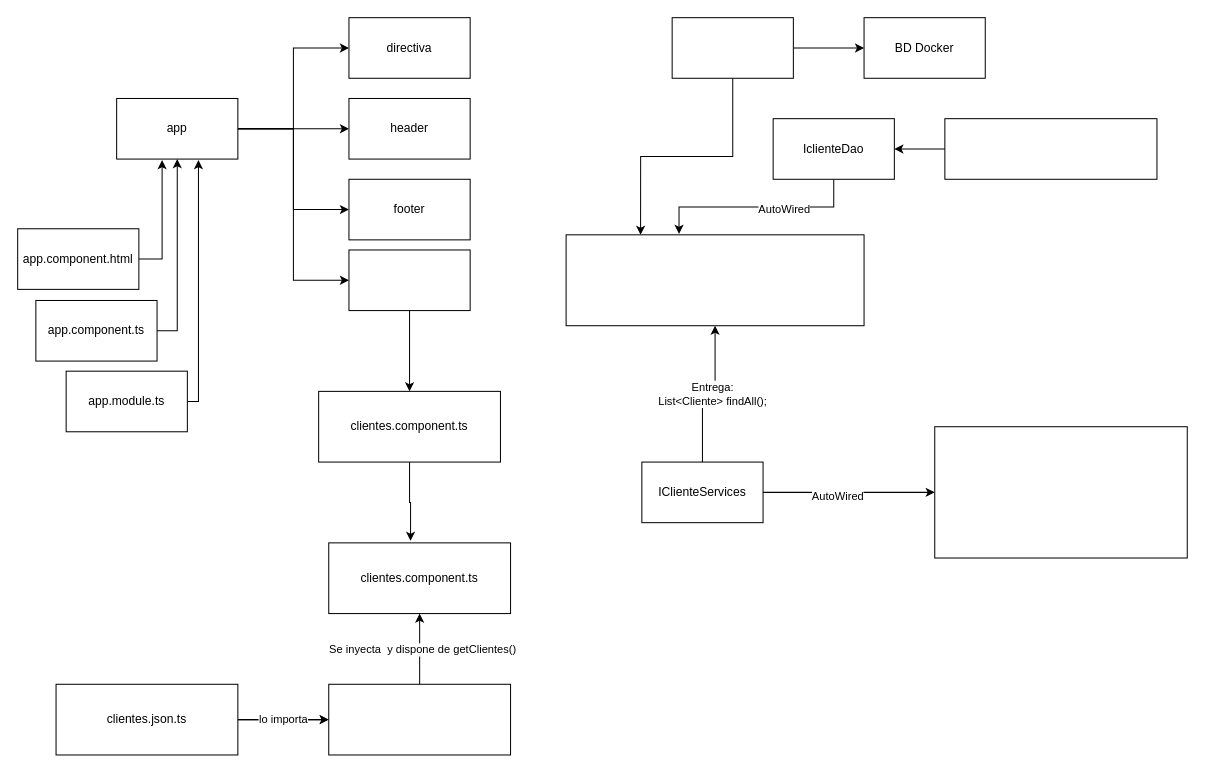
This 1205x773 diagram has some shape labels left out. The shapes that lost their labels are listed below. From the top down, each one's centre as x and y in pixels, then its label:
the point at 732,47: Entity cliente
the point at 1050,148: extends CrudRepository<Cliente,Long>
the point at 409,280: clientes
the point at 714,280: class ClienteServiceImp implements IclienteServices @Overwrite Metodos
the point at 1060,492: @RestController @RequestMapping("/api") public class ClienteRestController
the point at 419,719: cliente.service.ts
